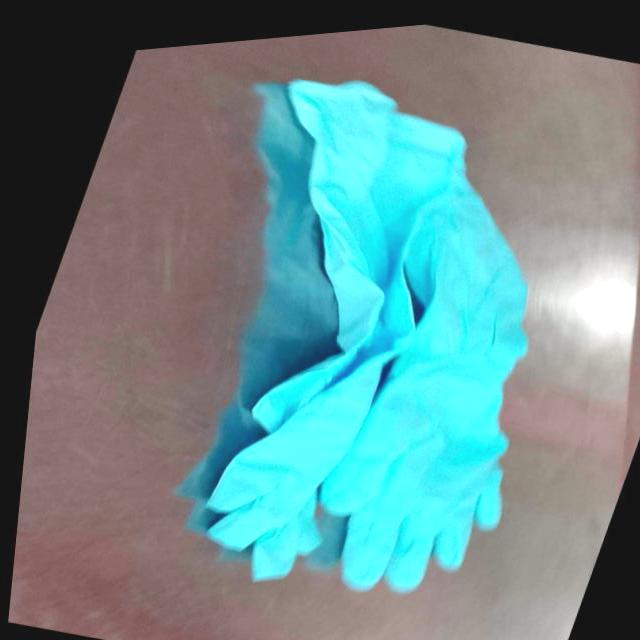General: (6, 21, 639, 639)
Infectious: (204, 79, 530, 594)
